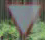Give way: (3, 0, 42, 38)
